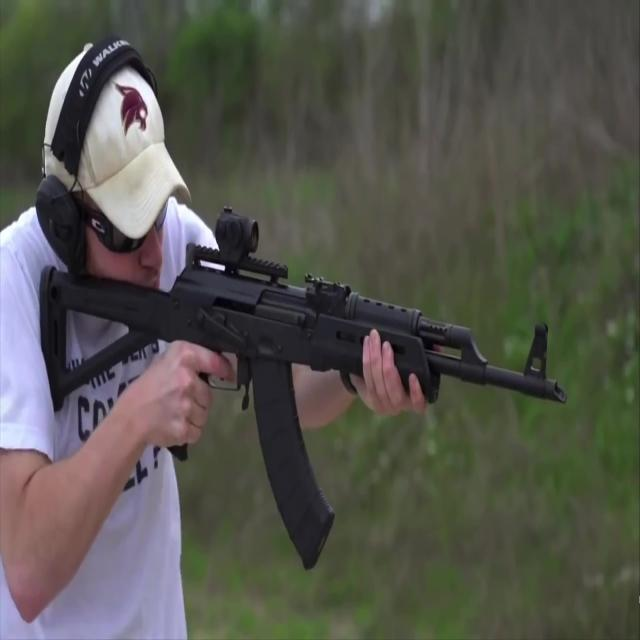Weapon: (31, 200, 592, 585)
